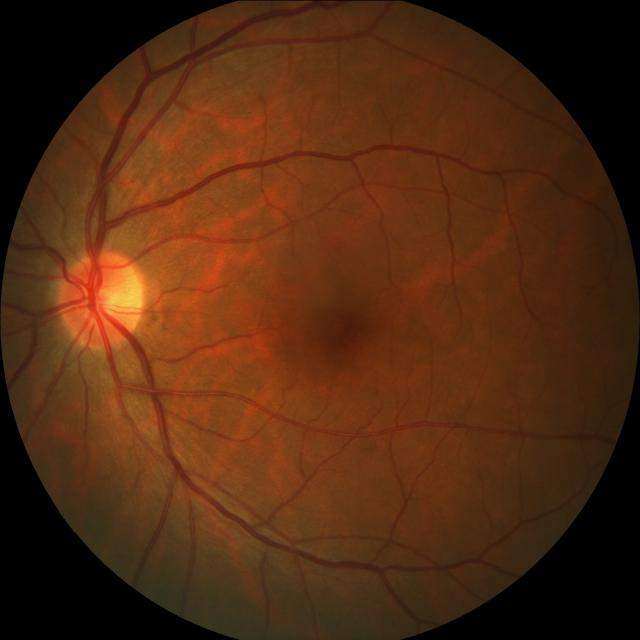OC: (86, 278, 122, 316)
OD: (60, 248, 147, 349)
